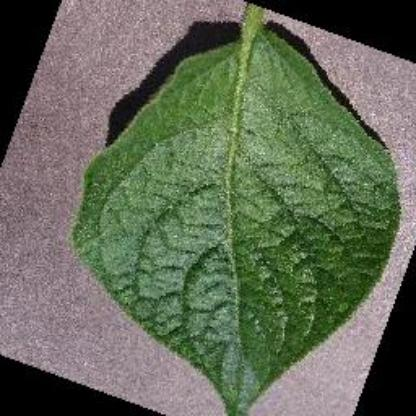Healthy-plant: (71, 8, 415, 414)
